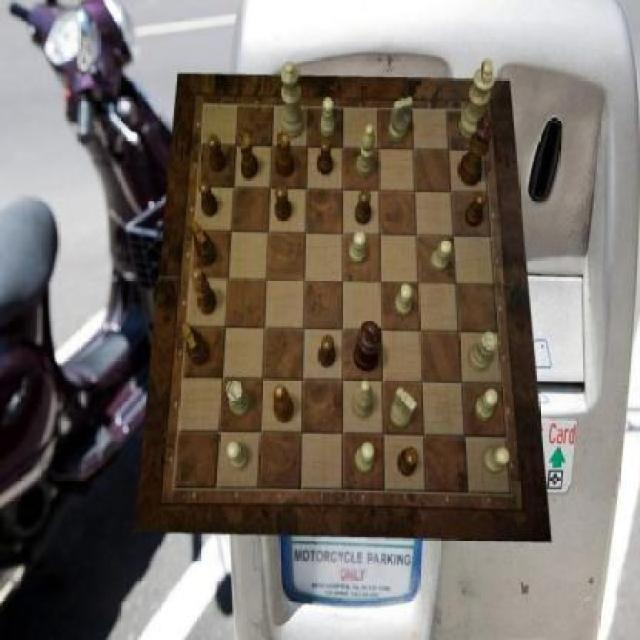bishop: (192, 269, 217, 317), (274, 385, 294, 423)
black-bishop: (354, 320, 381, 372)
black-king: (183, 322, 211, 366), (191, 220, 217, 266)
black-knight: (465, 191, 487, 227), (198, 179, 218, 216), (207, 134, 226, 172), (397, 448, 418, 477), (317, 139, 333, 176), (276, 184, 292, 220), (356, 190, 372, 226), (319, 335, 336, 368)
black-pawn: (459, 117, 496, 188)
black-queen: (240, 134, 260, 180), (276, 132, 294, 178)
black-rook: (357, 124, 377, 178), (352, 380, 373, 420)
white-bishop: (458, 60, 496, 142)
white-king: (389, 97, 414, 142), (390, 388, 418, 428)
white-knight: (429, 240, 452, 272), (476, 389, 498, 422), (483, 448, 510, 473), (226, 443, 249, 471), (395, 283, 413, 317), (349, 230, 367, 264), (356, 442, 376, 472), (320, 98, 335, 138)
white-pawn: (280, 62, 305, 139)
white-queen: (468, 332, 498, 372), (228, 379, 252, 416)
